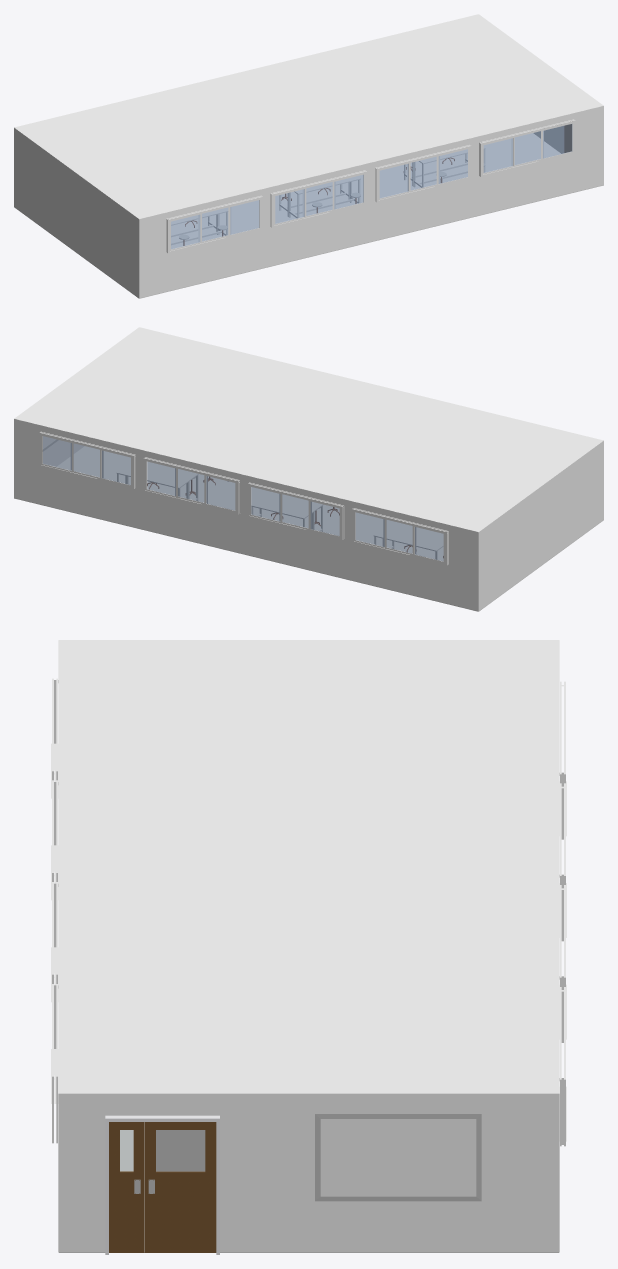
The model's file is Lab 1.fbx.
The picture shows the model from 3 angles, top to bottom: view 1: azimuth 30°, elevation 25°; view 2: azimuth 150°, elevation 25°; view 3: azimuth 270°, elevation 25°; orthographic projection. The views are drawn at different scales.
Visible parts, largest first — view 1: Roof, Walls, Windows2, Floor, WindowFrame1, TableLegs.008; view 2: Roof, Walls, Windows1, Floor, WindowFrame2, TableTop.005, TableTop.003, TableTop.002, TableTop.004, TableTop.001, TableTop; view 3: Roof, Walls, Door, WindowFrame1, WindowFrame2, boardFrame, DoorWindow2, DoorFrame, Floor.
Boxes of the visible parts, box(x1,y1,x2,y2) form: Roof: box(14, 14, 603, 218); Walls: box(14, 106, 603, 298); Windows2: box(171, 124, 572, 249); Floor: box(14, 133, 603, 298); WindowFrame1: box(166, 119, 575, 253); TableLegs.008: box(288, 180, 360, 218); Roof: box(14, 327, 603, 531); Walls: box(14, 419, 603, 611); Windows1: box(43, 436, 443, 561); Floor: box(14, 446, 603, 611); WindowFrame2: box(39, 431, 448, 565); TableTop.005: box(374, 529, 443, 551); TableTop.003: box(251, 496, 313, 519); TableTop.002: box(251, 489, 322, 511); TableTop.004: box(386, 521, 443, 542); TableTop.001: box(117, 465, 188, 488); TableTop: box(126, 461, 198, 481); Roof: box(58, 640, 559, 1093); Walls: box(58, 640, 559, 1251); Door: box(109, 1122, 216, 1252); WindowFrame1: box(51, 678, 58, 1143); WindowFrame2: box(559, 681, 566, 1146); boardFrame: box(315, 1114, 481, 1201); DoorWindow2: box(156, 1130, 205, 1171); DoorFrame: box(105, 1115, 219, 1254); Floor: box(58, 1122, 559, 1252).
Bounding box in the file's own units: 2822 × 459 × 1348.
